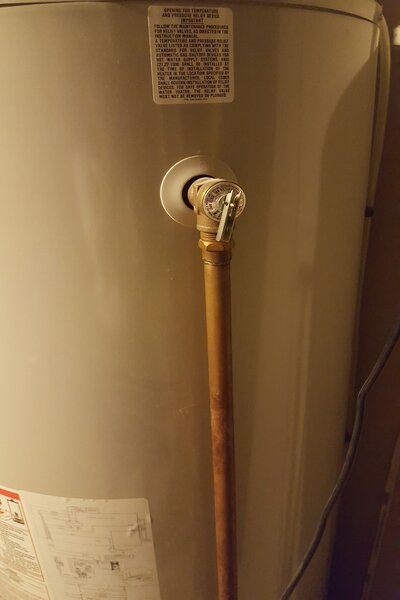valve: (180, 173, 249, 266)
